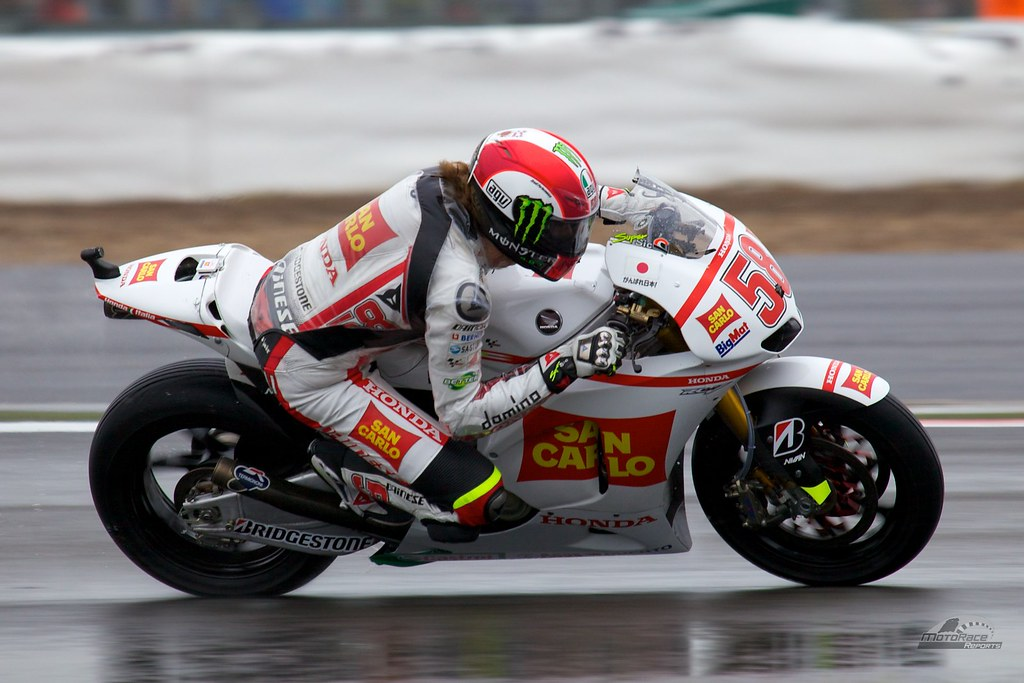helmet: (472, 133, 600, 278)
